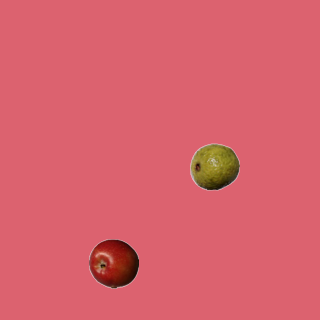Apple Braeburn: (88, 238, 138, 288)
Guava: (189, 141, 239, 191)
